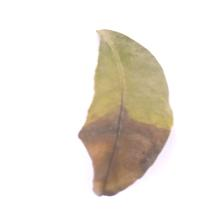black spot: (62, 104, 176, 196)
